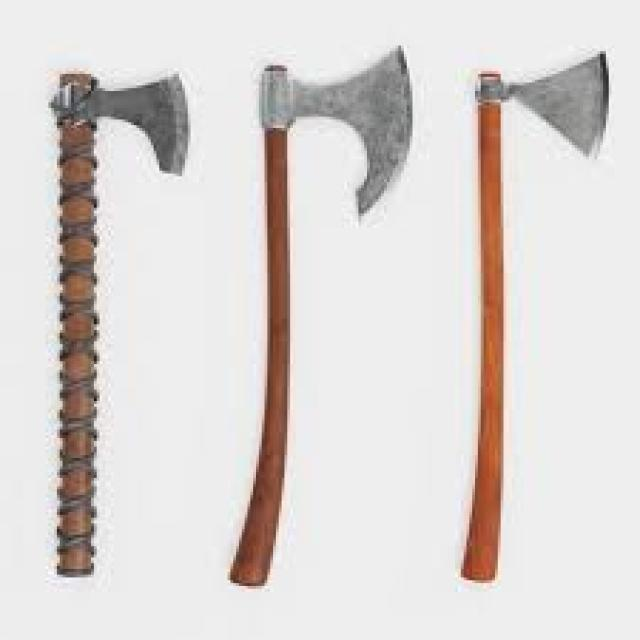Gun: (210, 38, 411, 599), (435, 34, 610, 588), (18, 58, 200, 575)
